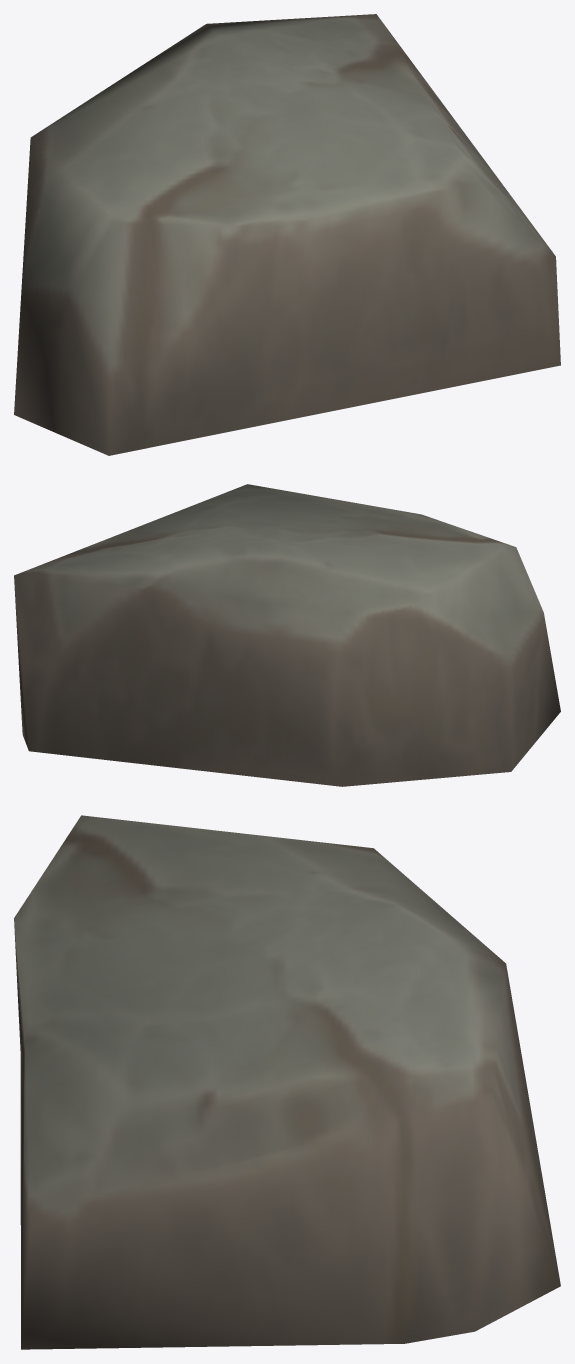
Rendered from SM_FW01_Floor_Debris_06.fbx.
3 renders of one model, top to bottom at view 1: azimuth 30°, elevation 25°; view 2: azimuth 150°, elevation 25°; view 3: azimuth 270°, elevation 25°, orthographic. The views are drawn at different scales.
Visible parts, largest first — view 1: SM_FW01_Floor_Debris_06; view 2: SM_FW01_Floor_Debris_06; view 3: SM_FW01_Floor_Debris_06.
Boxes of the visible parts, left/top/right/bottom form: SM_FW01_Floor_Debris_06: left=14, top=14, right=560, bottom=455; SM_FW01_Floor_Debris_06: left=14, top=484, right=560, bottom=786; SM_FW01_Floor_Debris_06: left=14, top=815, right=560, bottom=1349.
Bounding box in the file's own units: 0.4165 × 0.2193 × 0.3356.
